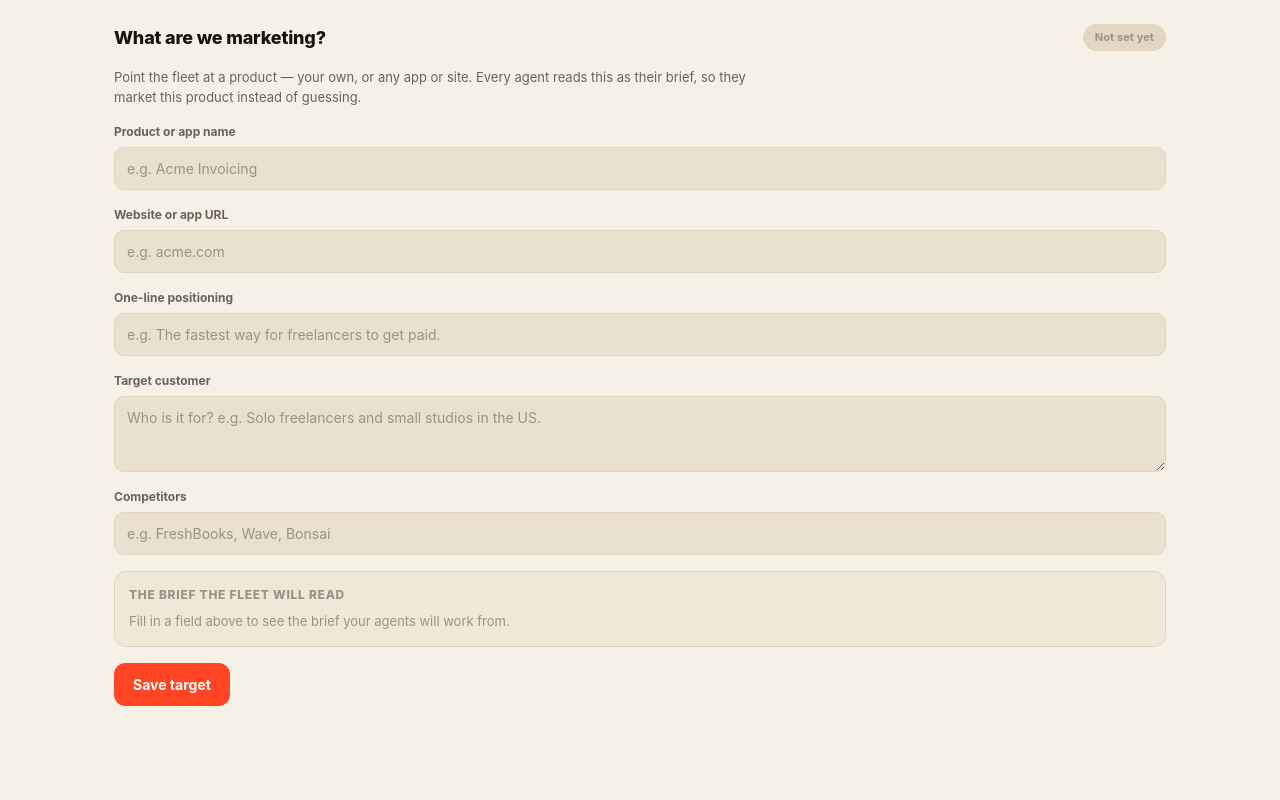
Scenario: MarketingTargetPanel (#502) › surfaces an error when the save is rejected (e.g. an empty target)
The width and height of the screenshot is (1280, 800).
Type "Acme" into the field with placeholder "e.g. Acme Invoicing". click: coordinates (640, 169)
box: [114,147,1166,190]
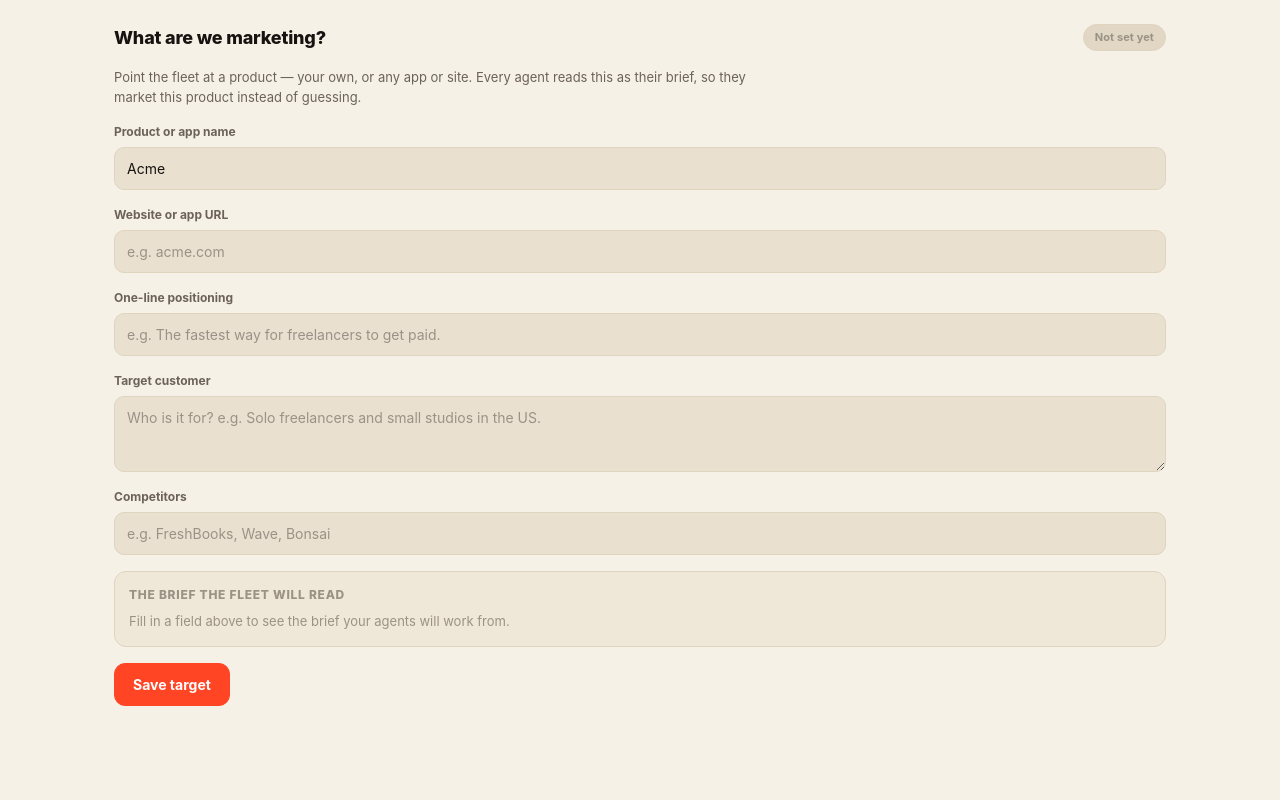
Click the button "Save target". click: coordinates (172, 684)
box: [114,663,230,706]
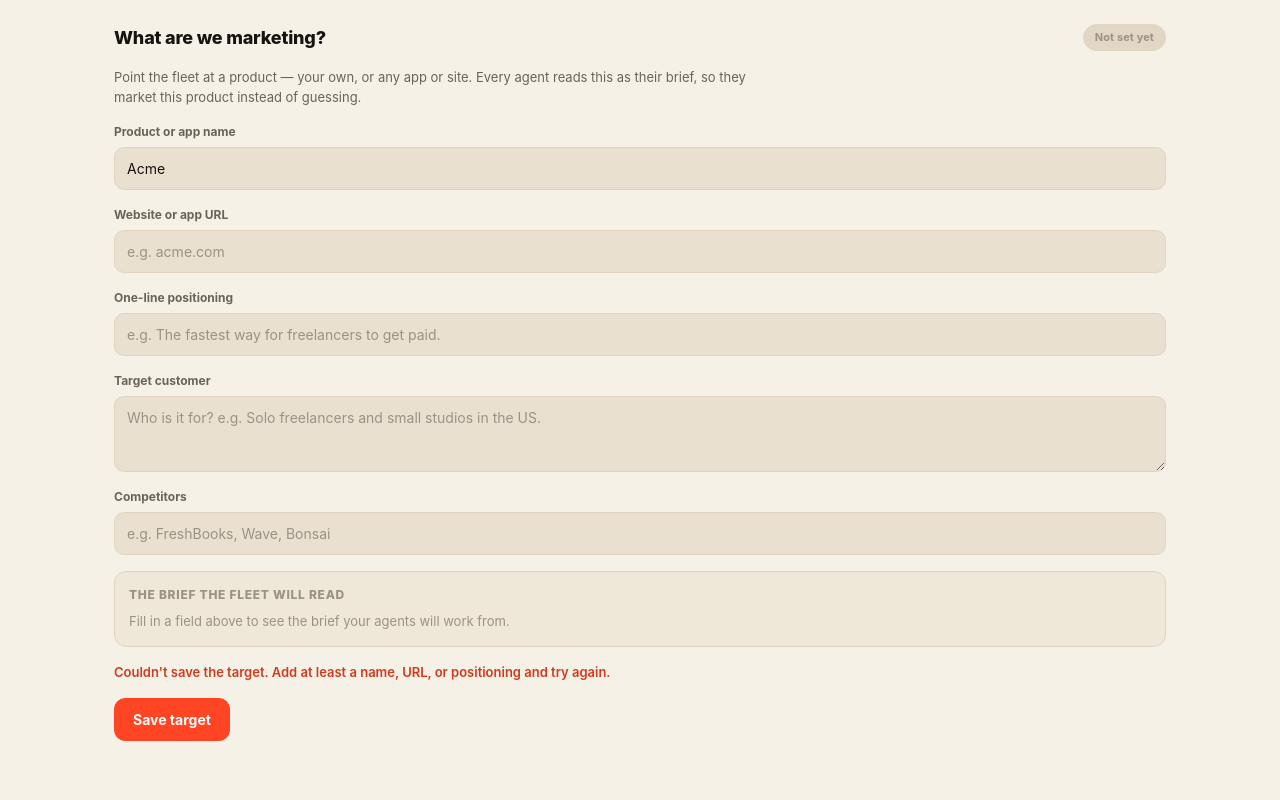
expect the text "Couldn't save the target. Add at least a name, URL, or positioning and try again." is shown: met, box [114,664,610,680]
